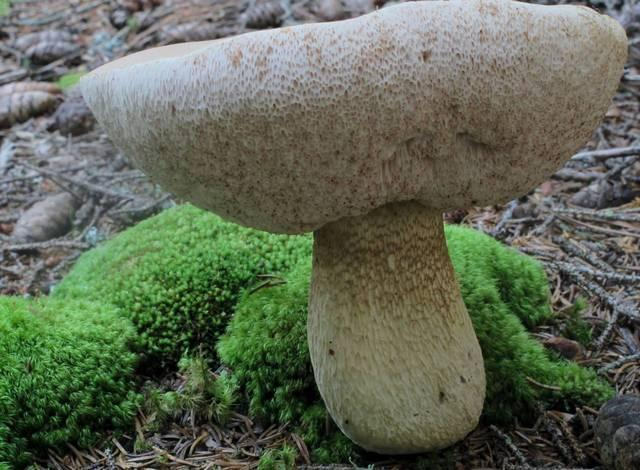Non-edible Mushroom: (76, 0, 629, 455)
